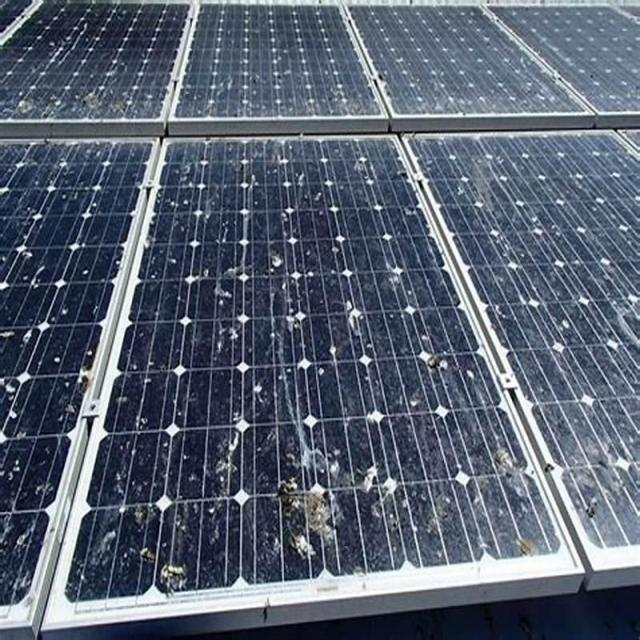soiled: (1, 138, 640, 632), (3, 1, 639, 124)
